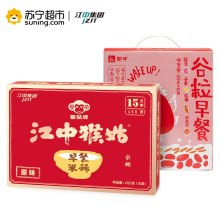box: (5, 80, 162, 195)
